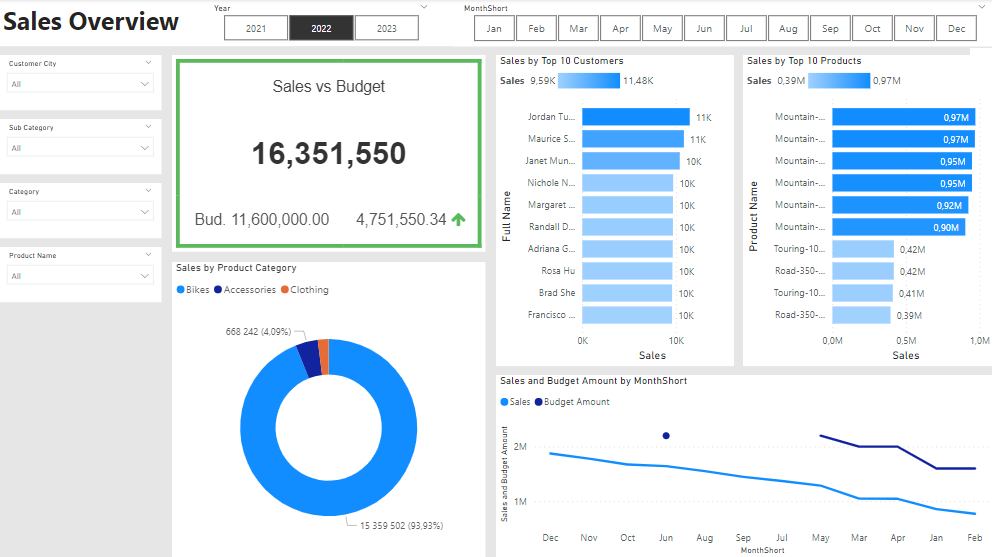

What the dashboard file says about the page in this screenshot:
{"tool":"powerbi","page":{"name":"Sales Overview","canvas":[1280,720],"ordinal":0},"visuals":[{"type":"textbox","box":[0,0,1280,61.1],"z":0},{"type":"slicer","fields":{"Values":["DIM_Customers.Customer City"]},"box":[0,72.2,208.9,71.1],"z":1000},{"type":"slicer","fields":{"Values":["DIM_Products.Sub Category"]},"box":[0,154.4,208.9,71.1],"z":2000},{"type":"slicer","fields":{"Values":["DIM_Products.Product Category"]},"box":[0,236.7,208.9,71.1],"z":3000},{"type":"slicer","fields":{"Values":["DIM_Products.Product Name"]},"box":[0,318.9,208.9,71.1],"z":4000},{"type":"slicer","fields":{"Values":["DIM_Calendar.Year"]},"box":[263.4,0,300.3,60.4],"z":5000},{"type":"slicer","fields":{"Values":["DIM_Calendar.MonthShort"]},"box":[584.5,0,696,60.7],"z":6000},{"type":"BBED0A4D4D8D44CE93CF2DAFADEE466C","fields":{"actual":["Key_Mesure.Sales"],"target1":["Key_Mesure.Budget Amount"],"target2":["Key_Mesure.Sales - Budget"]},"box":[223.1,72.1,402.6,152.7],"z":7000},{"type":"donutChart","fields":{"Category":["DIM_Products.Product Category"],"Y":["Key_Mesure.Sales"]},"box":[223.1,236.5,402.6,234.9],"z":8000},{"type":"lineChart","fields":{"Category":["DIM_Calendar.MonthShort"],"Y":["Key_Mesure.Sales","Key_Mesure.Budget Amount"]},"box":[223.1,484.2,402.4,235.8],"z":9000},{"type":"barChart","title":"Sales by Top 10 Customers","fields":{"Y":["Key_Mesure.Sales"],"Category":["DIM_Customers.Full Name"]},"box":[639.5,72,306.4,399.5],"z":10000},{"type":"barChart","title":"Sales by Top 10 Products","fields":{"Y":["Key_Mesure.Sales"],"Category":["DIM_Products.Product Name"]},"box":[957.2,72,323.3,399.5],"z":11000},{"type":"map","fields":{"Size":["Key_Mesure.Sales"],"Category":["DIM_Customers.Customer City"]},"box":[639.5,484.2,640.9,235.8],"z":12000}]}

Visuals, with their boxes in screenshot pixels (x1, y1, x2, y2), scaled from the page's 1280x720 canvas onto the 992x557 screenshot:
textbox: [left=0, top=0, right=991, bottom=47]
slicer - DIM_Customers.Customer City: [left=0, top=56, right=162, bottom=111]
slicer - DIM_Products.Sub Category: [left=0, top=119, right=162, bottom=174]
slicer - DIM_Products.Product Category: [left=0, top=183, right=162, bottom=238]
slicer - DIM_Products.Product Name: [left=0, top=247, right=162, bottom=302]
slicer - DIM_Calendar.Year: [left=204, top=0, right=437, bottom=47]
slicer - DIM_Calendar.MonthShort: [left=453, top=0, right=991, bottom=47]
BBED0A4D4D8D44CE93CF2DAFADEE466C - Key_Mesure.Sales x Key_Mesure.Budget Amount: [left=173, top=56, right=485, bottom=174]
donutChart - DIM_Products.Product Category x Key_Mesure.Sales: [left=173, top=183, right=485, bottom=365]
lineChart - DIM_Calendar.MonthShort x Key_Mesure.Sales: [left=173, top=375, right=485, bottom=556]
"Sales by Top 10 Customers" barChart: [left=496, top=56, right=733, bottom=365]
"Sales by Top 10 Products" barChart: [left=742, top=56, right=991, bottom=365]
map - Key_Mesure.Sales x DIM_Customers.Customer City: [left=496, top=375, right=991, bottom=556]
